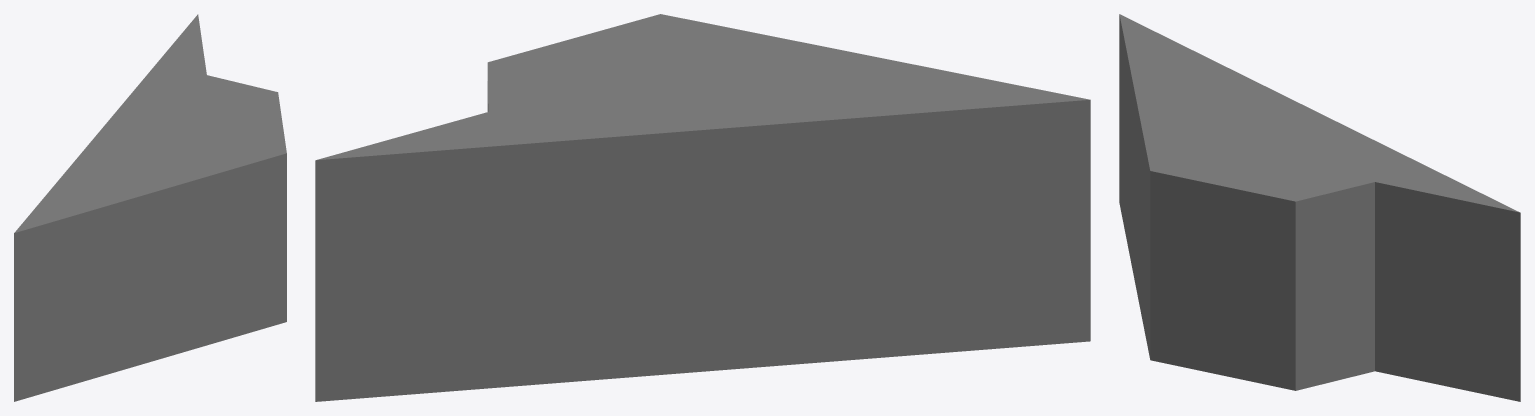
Rendered from base_destroyed_9.glb.
3 views of the same model, side by side, from view 1: azimuth 30°, elevation 25°; view 2: azimuth 150°, elevation 25°; view 3: azimuth 270°, elevation 25° (orthographic). The views are drawn at different scales.
Parts seen in each view (by area): view 1: base_destroyed_9; view 2: base_destroyed_9; view 3: base_destroyed_9.
Part boxes in pixels (x1,y1,x2,y2): base_destroyed_9: (14, 14, 286, 401); base_destroyed_9: (315, 14, 1090, 401); base_destroyed_9: (1119, 14, 1520, 401).
Bounding box in the file's own units: 0.45 × 0.2 × 0.3839.
Materials: 1 (1 with a texture image).
